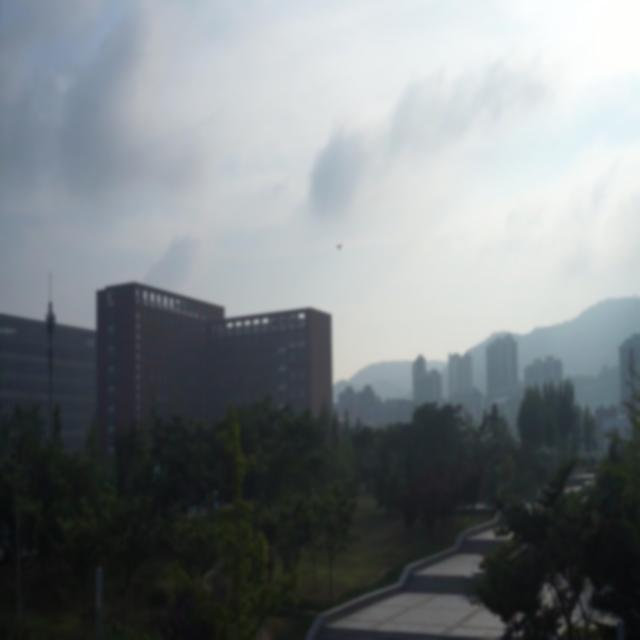UAV: (336, 245, 342, 250)
